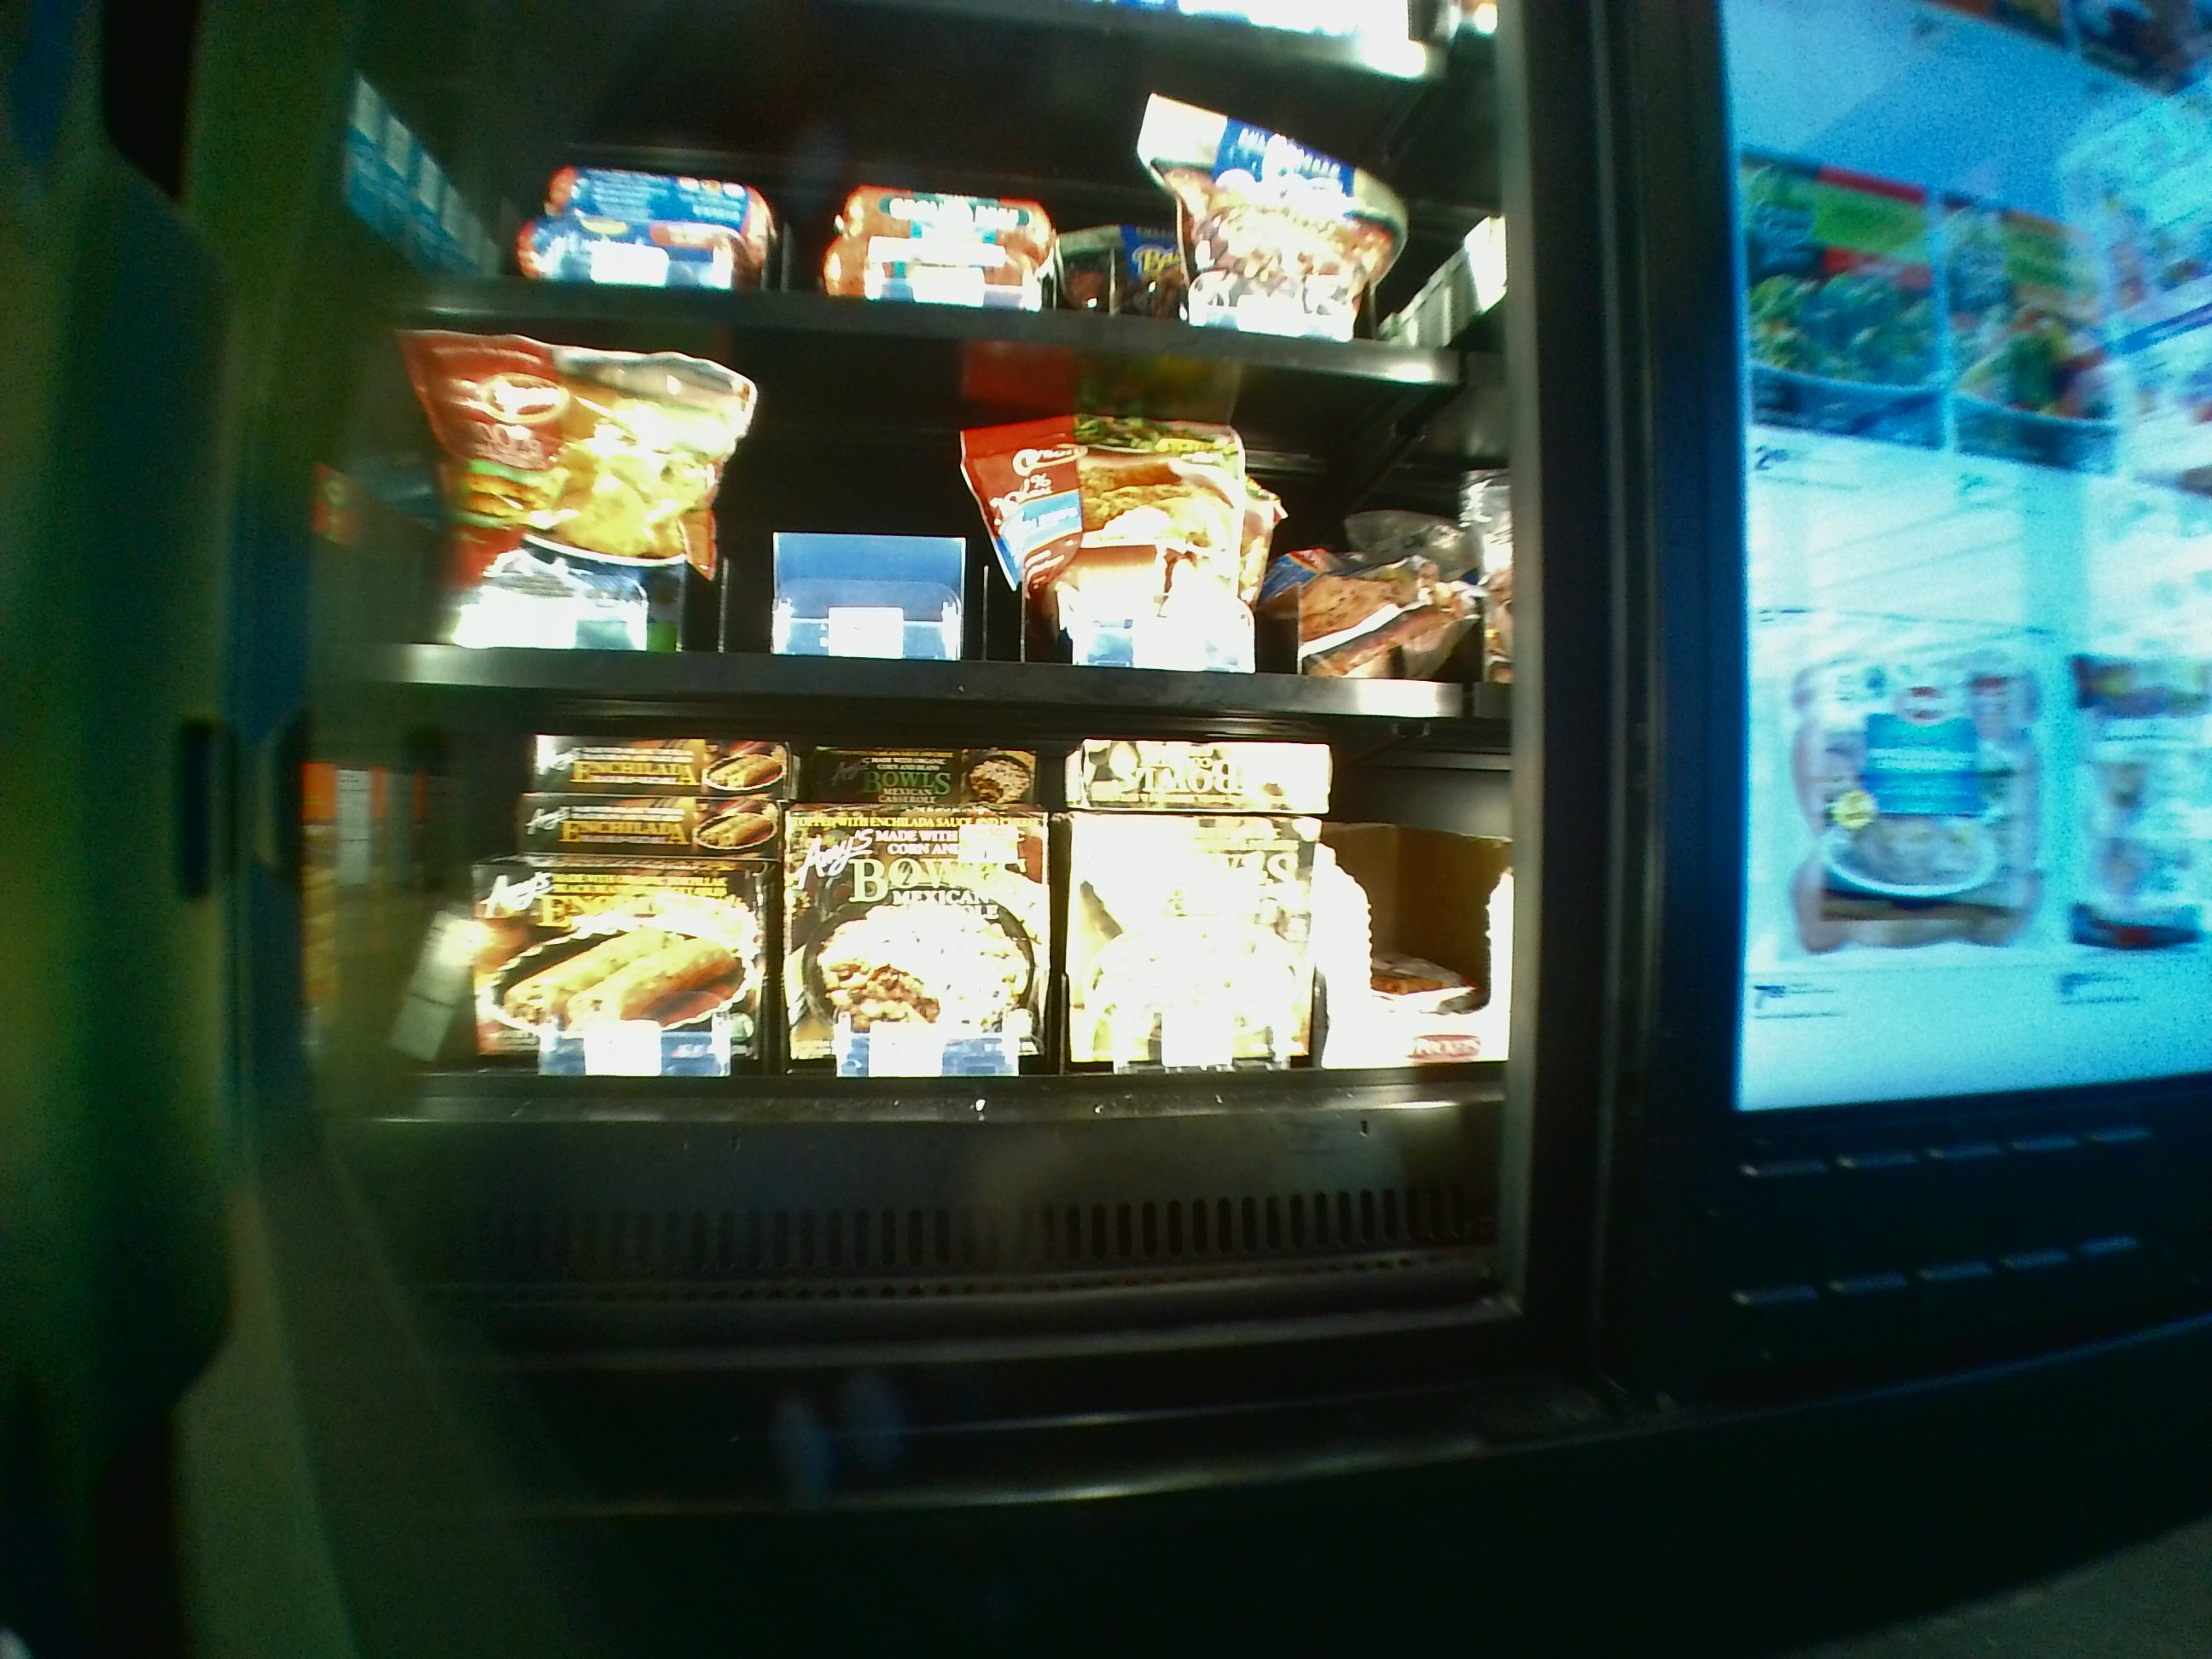shelf: (320, 728, 1503, 1297), (319, 315, 1501, 716)
